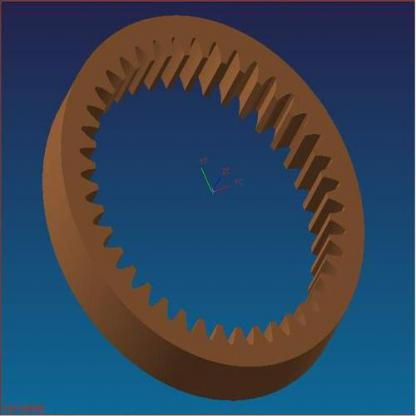FOD: (36, 8, 368, 406)
